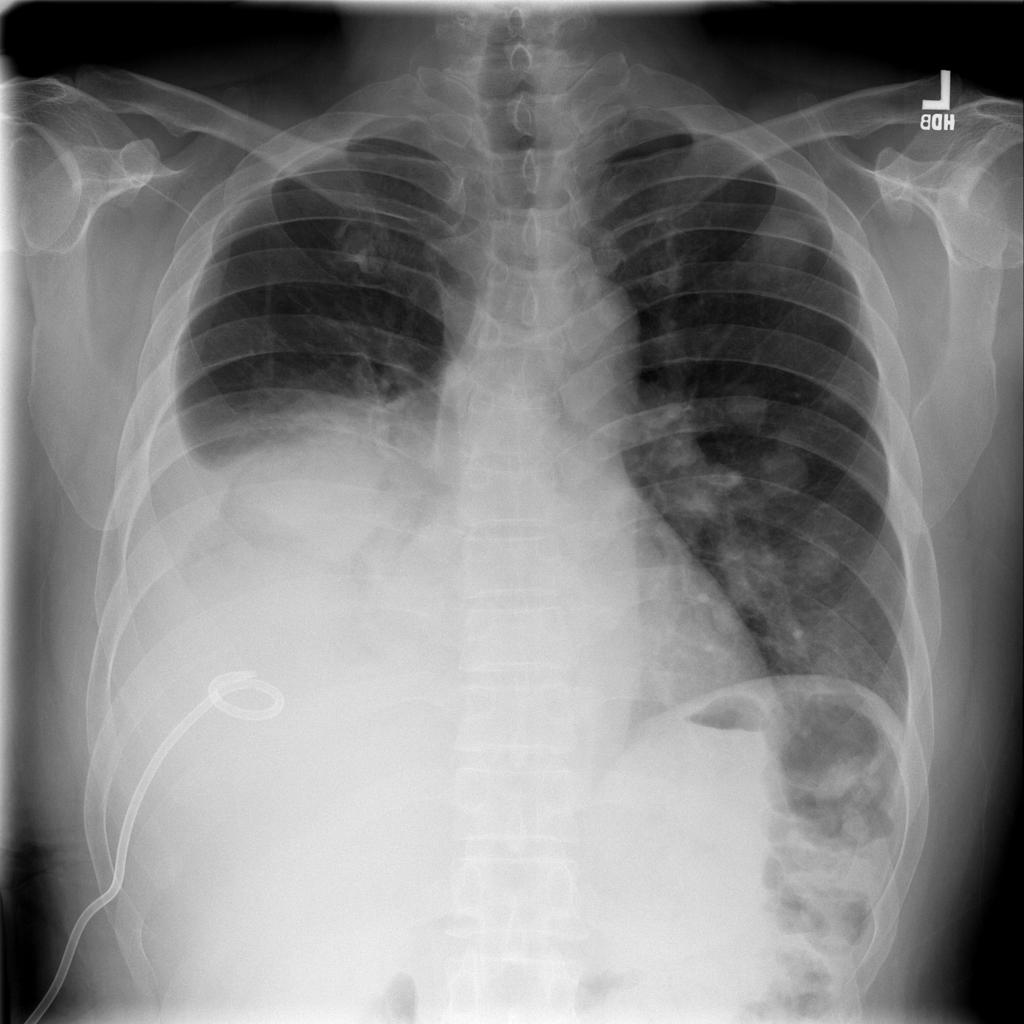nodule: (720, 198, 829, 304), (745, 429, 821, 510), (796, 636, 875, 705), (785, 523, 860, 595), (711, 370, 784, 443)
